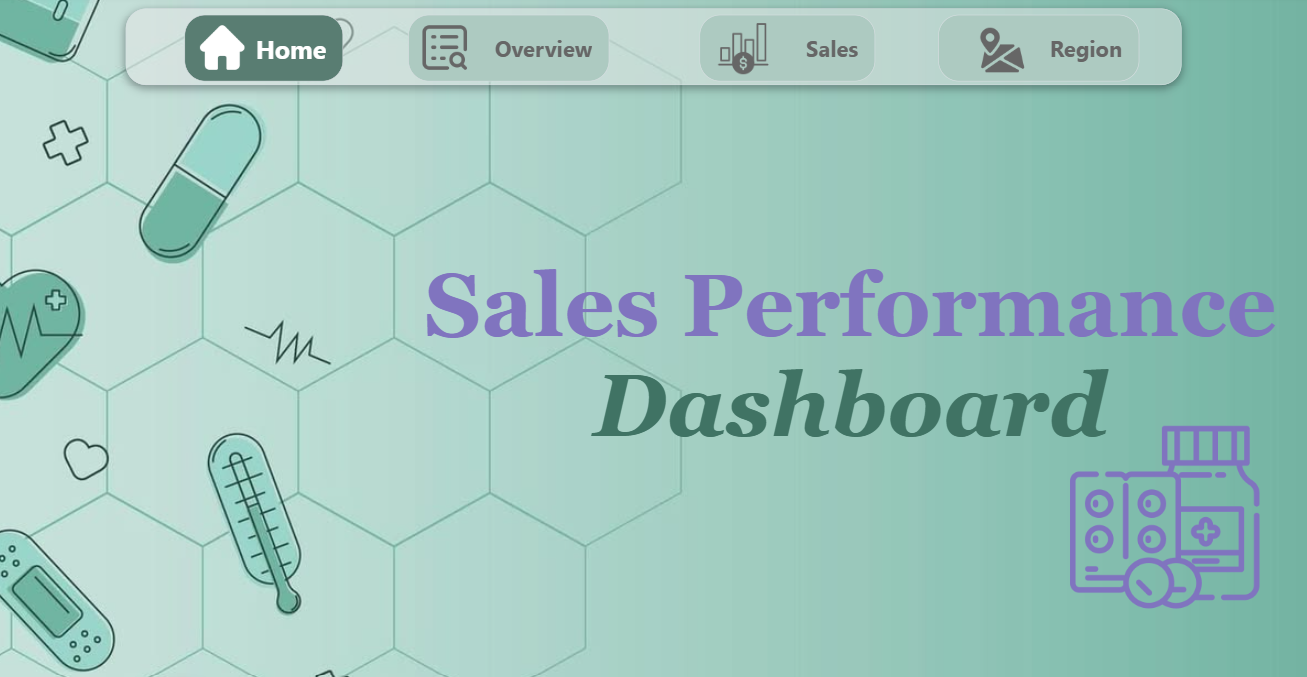

The dashboard page shown, as its layout file describes it:
{"tool":"powerbi","page":{"name":"Home","canvas":[1920,1080],"ordinal":0},"visuals":[{"type":"textbox","box":[574.3,376.7,1346.1,399.3],"z":0},{"type":"image","box":[1537.6,605.1,331.4,304.6],"z":1000},{"type":"shape","box":[193.5,18.5,1533.5,111.1],"z":2000},{"type":"shape","box":[279.9,26.8,230.5,96.7],"z":3000},{"type":"shape","box":[603.8,26.8,292.3,96.7],"z":4000},{"type":"shape","box":[1027.1,26.8,255.2,96.7],"z":5000},{"type":"shape","box":[1375,26.8,292.3,96.7],"z":6000},{"type":"image","box":[279.9,26.8,109.1,94.7],"z":7000},{"type":"image","box":[1412,30.9,109.1,94.7],"z":8000},{"type":"image","box":[1027.1,22.6,127.6,109.1],"z":9000},{"type":"image","box":[603.1,26.8,109.1,94.7],"z":10000}]}

Visuals, with their boxes on the page's 1920x1080 design canvas (x1, y1, x2, y2). These are canvas units, not pixel positions in the 1307x677 screenshot, which may show the page scaled, cropped or inside an application window:
textbox: [x1=574, y1=377, x2=1920, y2=776]
image: [x1=1538, y1=605, x2=1869, y2=910]
shape: [x1=194, y1=18, x2=1727, y2=130]
shape: [x1=280, y1=27, x2=510, y2=124]
shape: [x1=604, y1=27, x2=896, y2=124]
shape: [x1=1027, y1=27, x2=1282, y2=124]
shape: [x1=1375, y1=27, x2=1667, y2=124]
image: [x1=280, y1=27, x2=389, y2=122]
image: [x1=1412, y1=31, x2=1521, y2=126]
image: [x1=1027, y1=23, x2=1155, y2=132]
image: [x1=603, y1=27, x2=712, y2=122]
